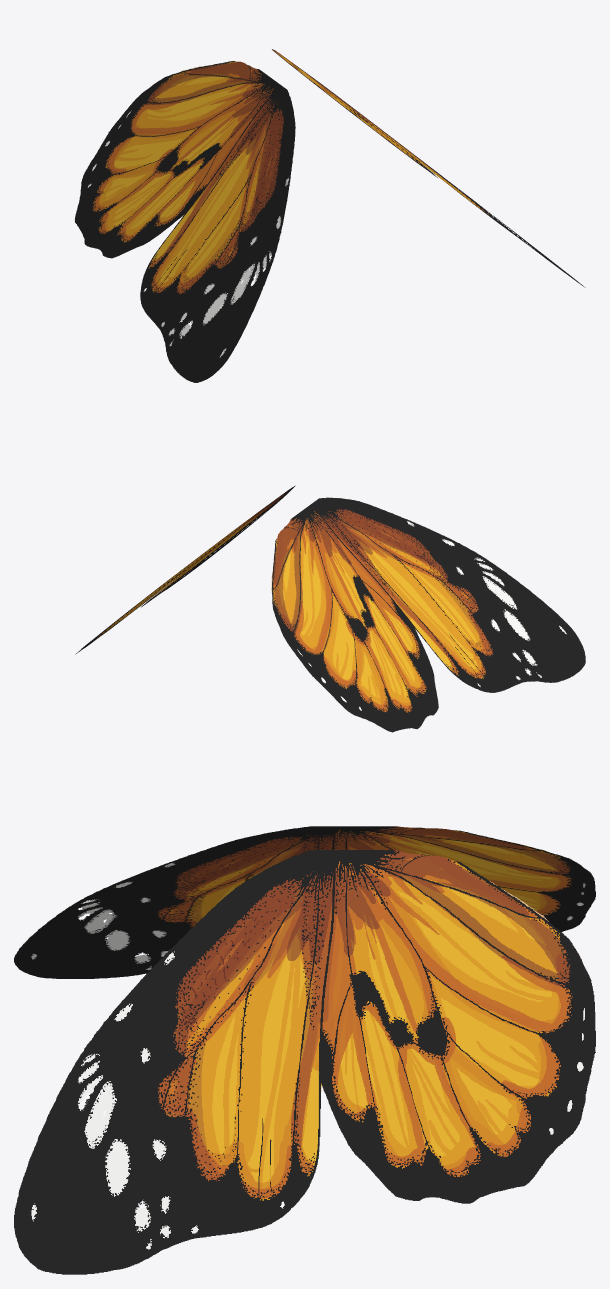
Rendered from wings.glb.
The picture shows the model from 3 angles, top to bottom: view 1: azimuth 30°, elevation 25°; view 2: azimuth 150°, elevation 25°; view 3: azimuth 270°, elevation 25°; orthographic projection. The views are drawn at different scales.
Visible parts, largest first — view 1: image.001; view 2: image.001; view 3: image.001.
Boxes of the visible parts, x1,y1,x2,y2 form: image.001: (75,49,585,382); image.001: (75,485,585,732); image.001: (14,826,595,1274).
Size of the model in its own units: 1.04 by 0.4725 by 0.8636.
Materials: 1 (1 with a texture image).
